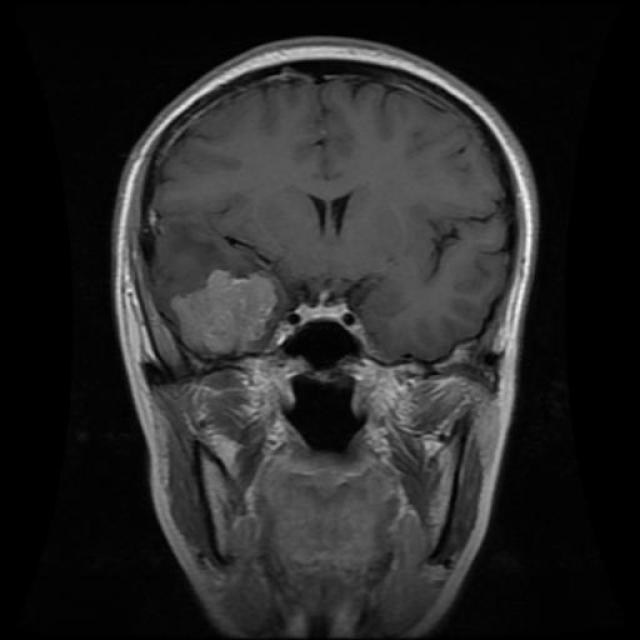Tumor: (160, 269, 270, 350)
